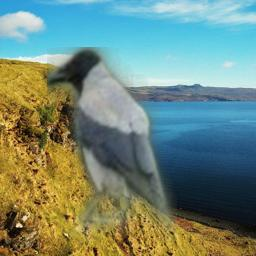Crow: (47, 47, 177, 243)
